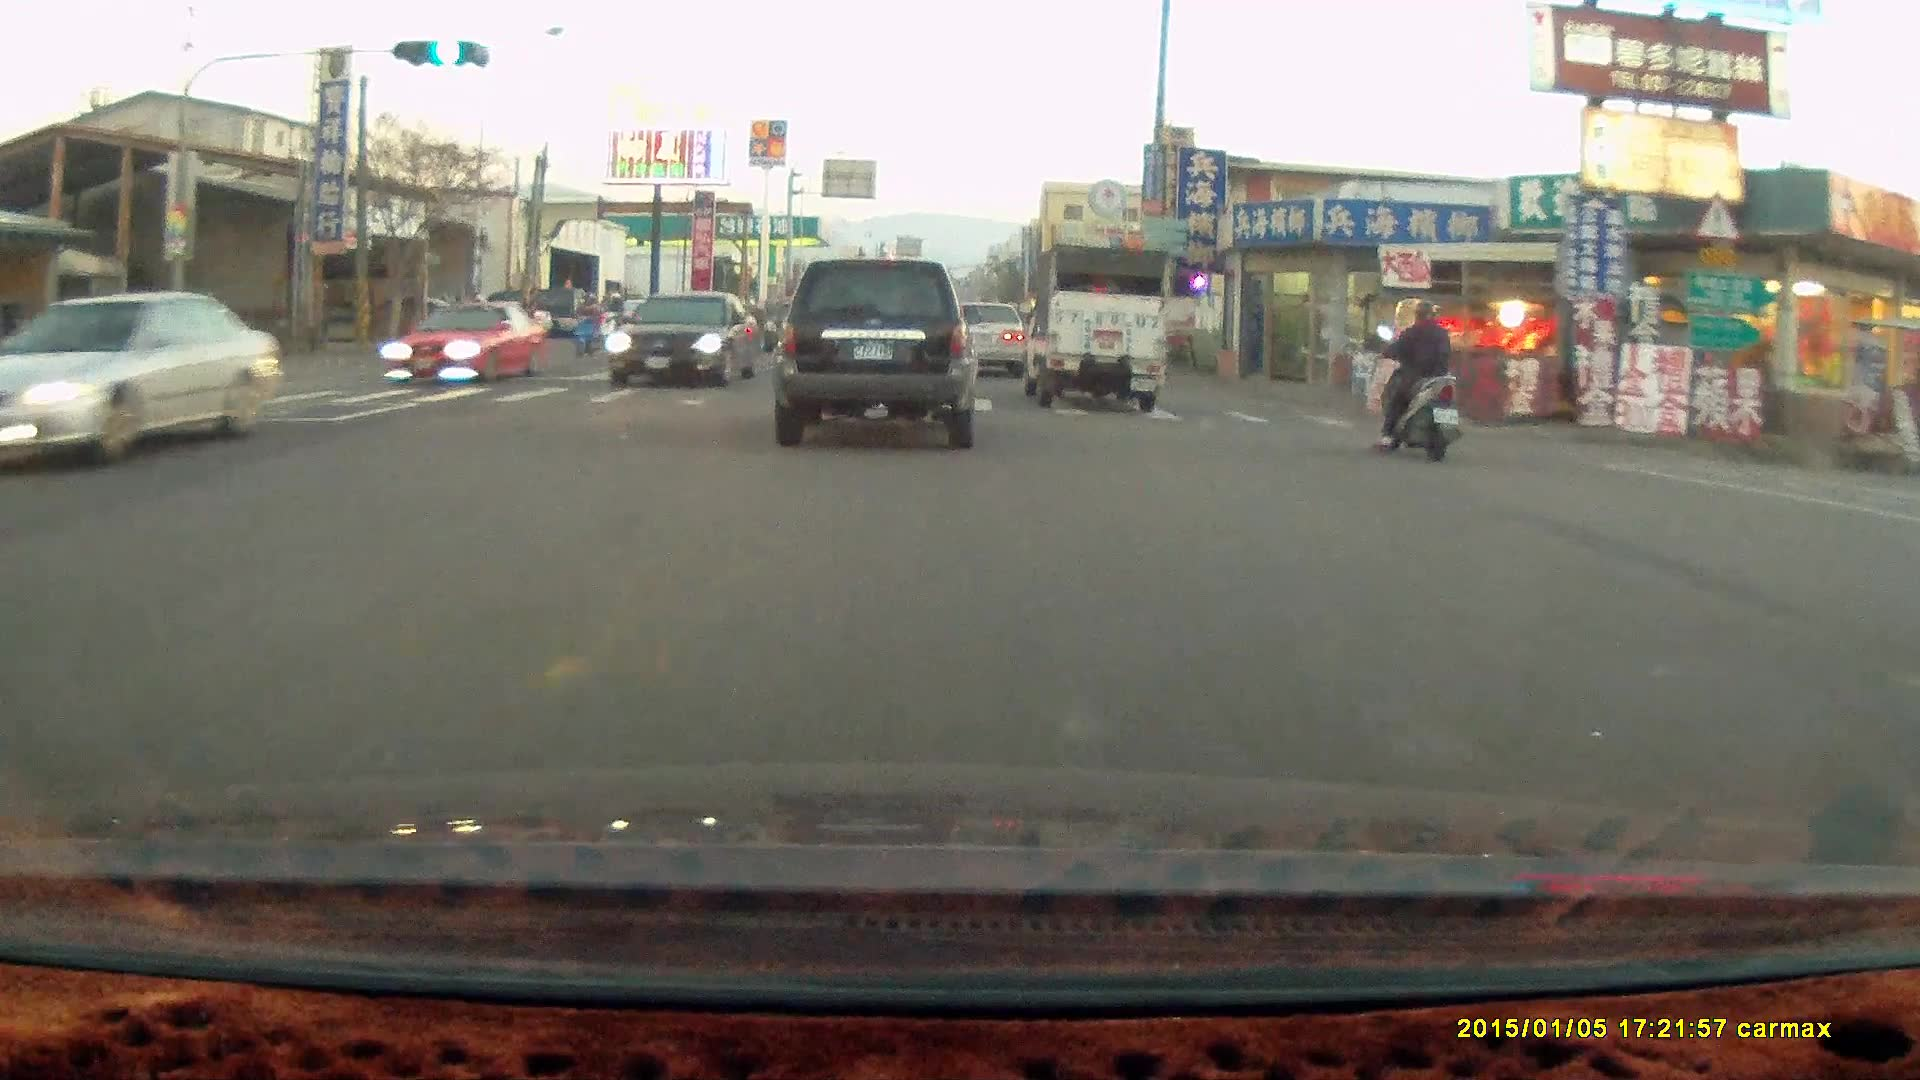rider: (1372, 280, 1461, 445), (567, 289, 604, 349), (597, 288, 635, 346)
vehicle: (1, 287, 290, 464), (769, 256, 982, 450), (1015, 242, 1170, 413), (606, 289, 761, 390), (381, 299, 548, 385), (55, 285, 231, 354), (941, 296, 1027, 376), (943, 302, 1030, 381)
